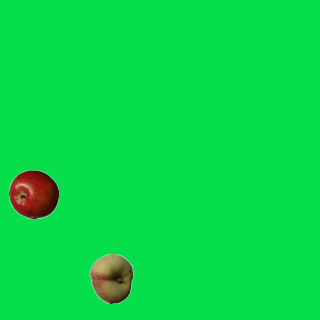Apple Braeburn: (8, 169, 58, 219)
Peach Flat: (86, 253, 136, 303)
